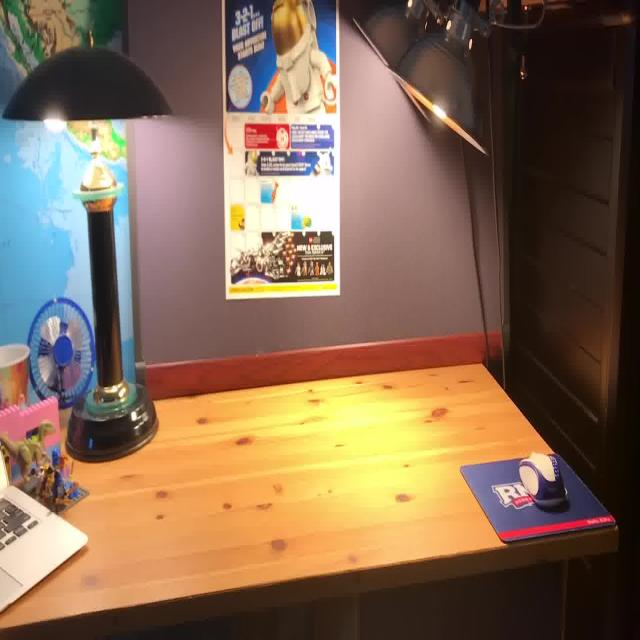brick: (1, 420, 67, 474)
figure: (0, 396, 62, 436)
